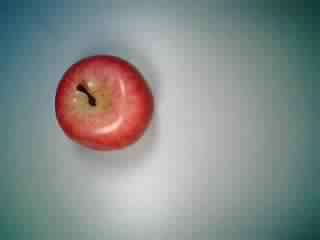apple: (50, 50, 156, 154)
